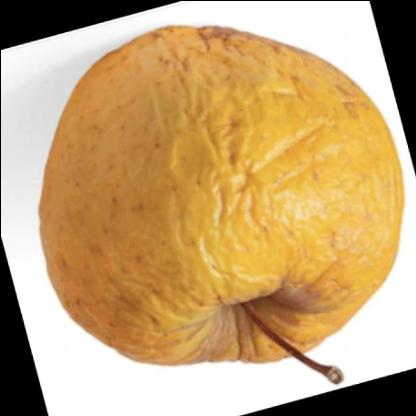defect: (37, 24, 401, 360)
